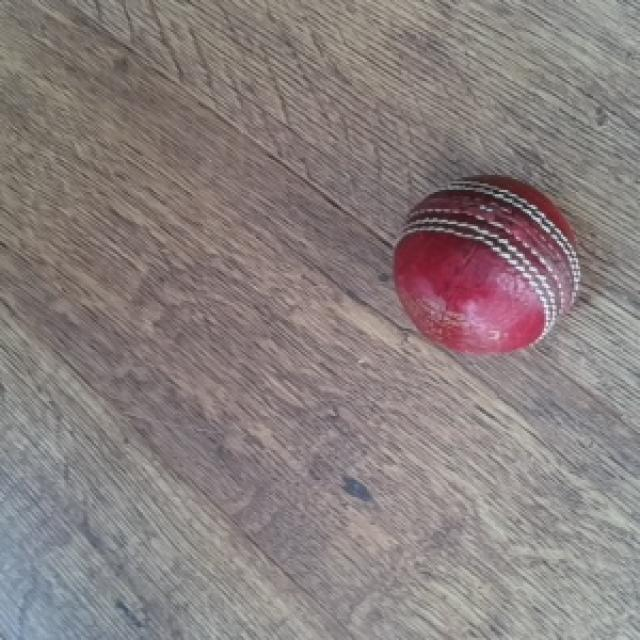ball: (386, 167, 586, 363)
